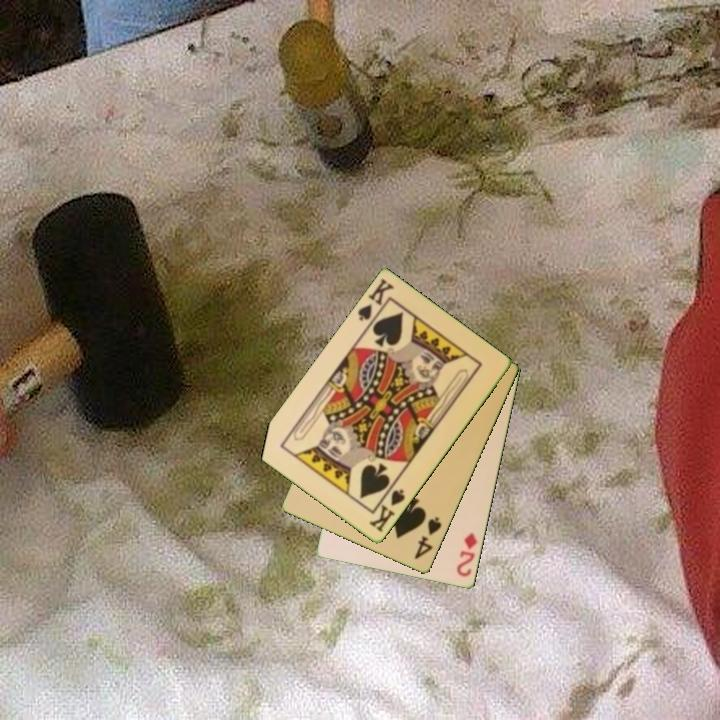2d: (453, 529, 480, 580)
4s: (411, 513, 445, 563)
Ks: (354, 275, 397, 331), (365, 486, 408, 536)
